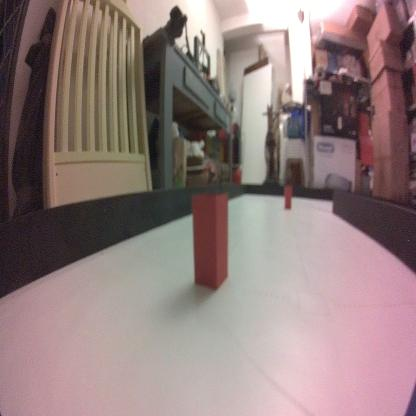red: (191, 190, 227, 290), (284, 185, 292, 209)
